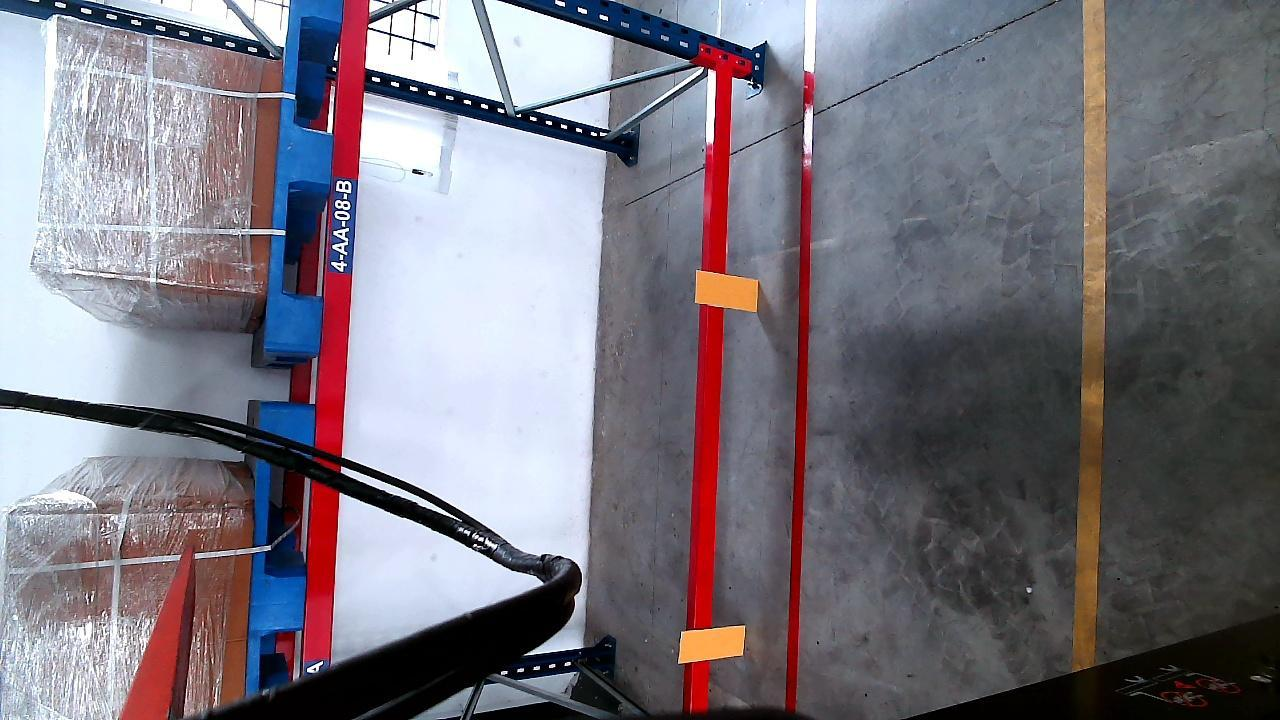red_line: (783, 0, 819, 706)
